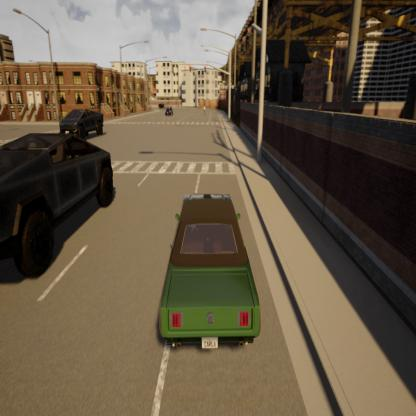Cars: (0, 126, 123, 303), (155, 184, 264, 362), (56, 95, 108, 147), (165, 105, 174, 118), (157, 101, 168, 110)
